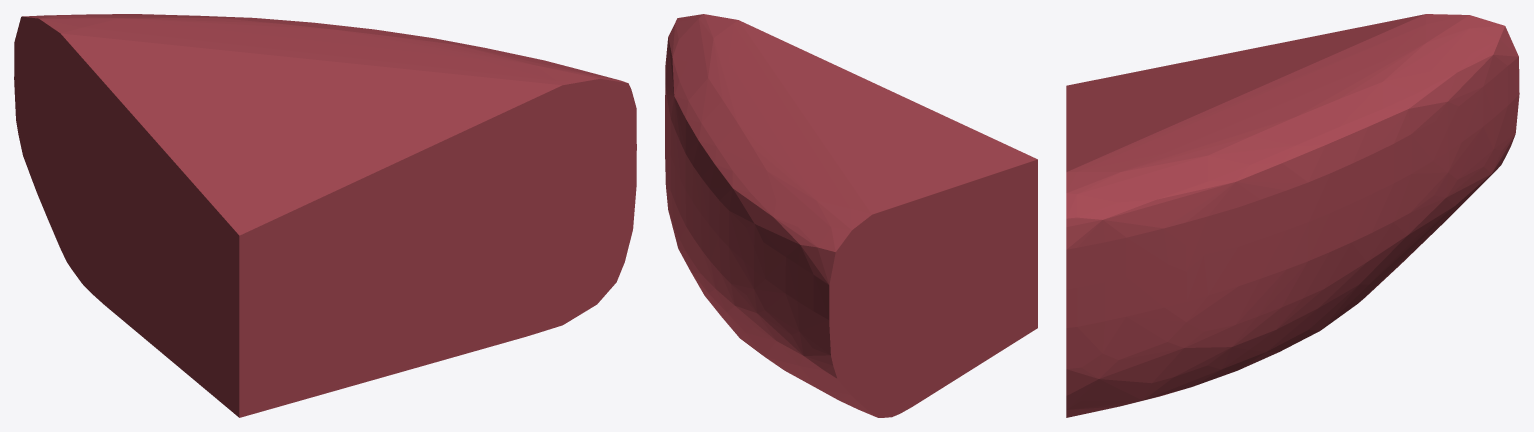
Rendered from arch_peg_convex_coll_016.obj.
3 views of the same model, side by side, from view 1: azimuth 30°, elevation 25°; view 2: azimuth 150°, elevation 25°; view 3: azimuth 270°, elevation 25° (orthographic). The views are drawn at different scales.
Bounding box in the file's own units: 0.019 × 0.0116 × 0.0187.
